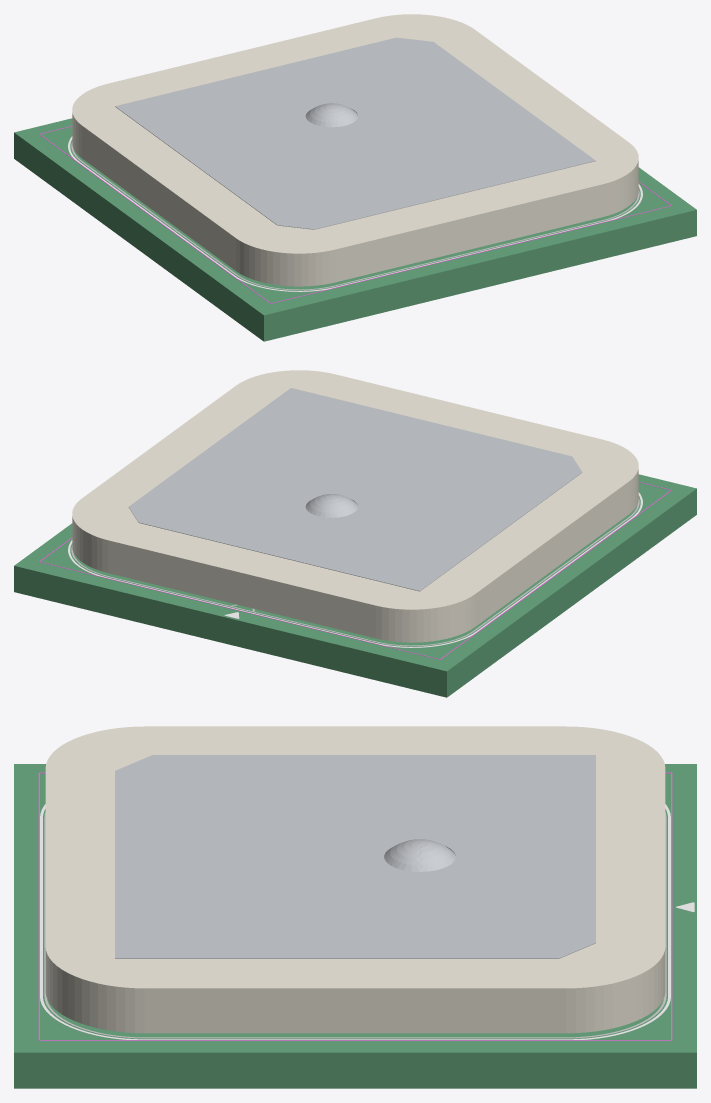
Rendered from head.glb.
3 views of the same model, one above another, from view 1: azimuth 30°, elevation 25°; view 2: azimuth 150°, elevation 25°; view 3: azimuth 270°, elevation 25° (orthographic). The views are drawn at different scales.
Parts seen in each view (by area): view 1: model_1_4_body, model_1_3_patch, PCB, F.Fab, F.SilkS, model_1_2_feed_solder, F.CrtYd; view 2: model_1_4_body, model_1_3_patch, PCB, F.Fab, F.SilkS, model_1_2_feed_solder, F.CrtYd; view 3: model_1_3_patch, model_1_4_body, PCB, F.SilkS, F.Fab, model_1_2_feed_solder, F.CrtYd.
Part boxes in pixels (box(x1,y1,x2,y2)): model_1_4_body: box(72, 14, 638, 286); model_1_3_patch: box(115, 37, 595, 229); PCB: box(14, 118, 696, 341); F.Fab: box(71, 142, 639, 290); F.SilkS: box(68, 136, 642, 291); model_1_2_feed_solder: box(305, 103, 357, 127); F.CrtYd: box(39, 126, 671, 303); model_1_4_body: box(72, 370, 638, 642); model_1_3_patch: box(128, 388, 582, 591); PCB: box(14, 474, 696, 697); F.Fab: box(71, 498, 639, 646); F.SilkS: box(68, 492, 642, 647); model_1_2_feed_solder: box(305, 494, 357, 517); F.CrtYd: box(39, 482, 671, 659); model_1_3_patch: box(115, 755, 595, 958); model_1_4_body: box(45, 726, 665, 1033); PCB: box(14, 764, 696, 1088); F.SilkS: box(40, 804, 694, 1039); F.Fab: box(44, 812, 666, 1038); model_1_2_feed_solder: box(384, 839, 455, 871); F.CrtYd: box(38, 772, 672, 1040).
Bounding box in the file's own units: 27.55 × 5.2 × 27.55.
